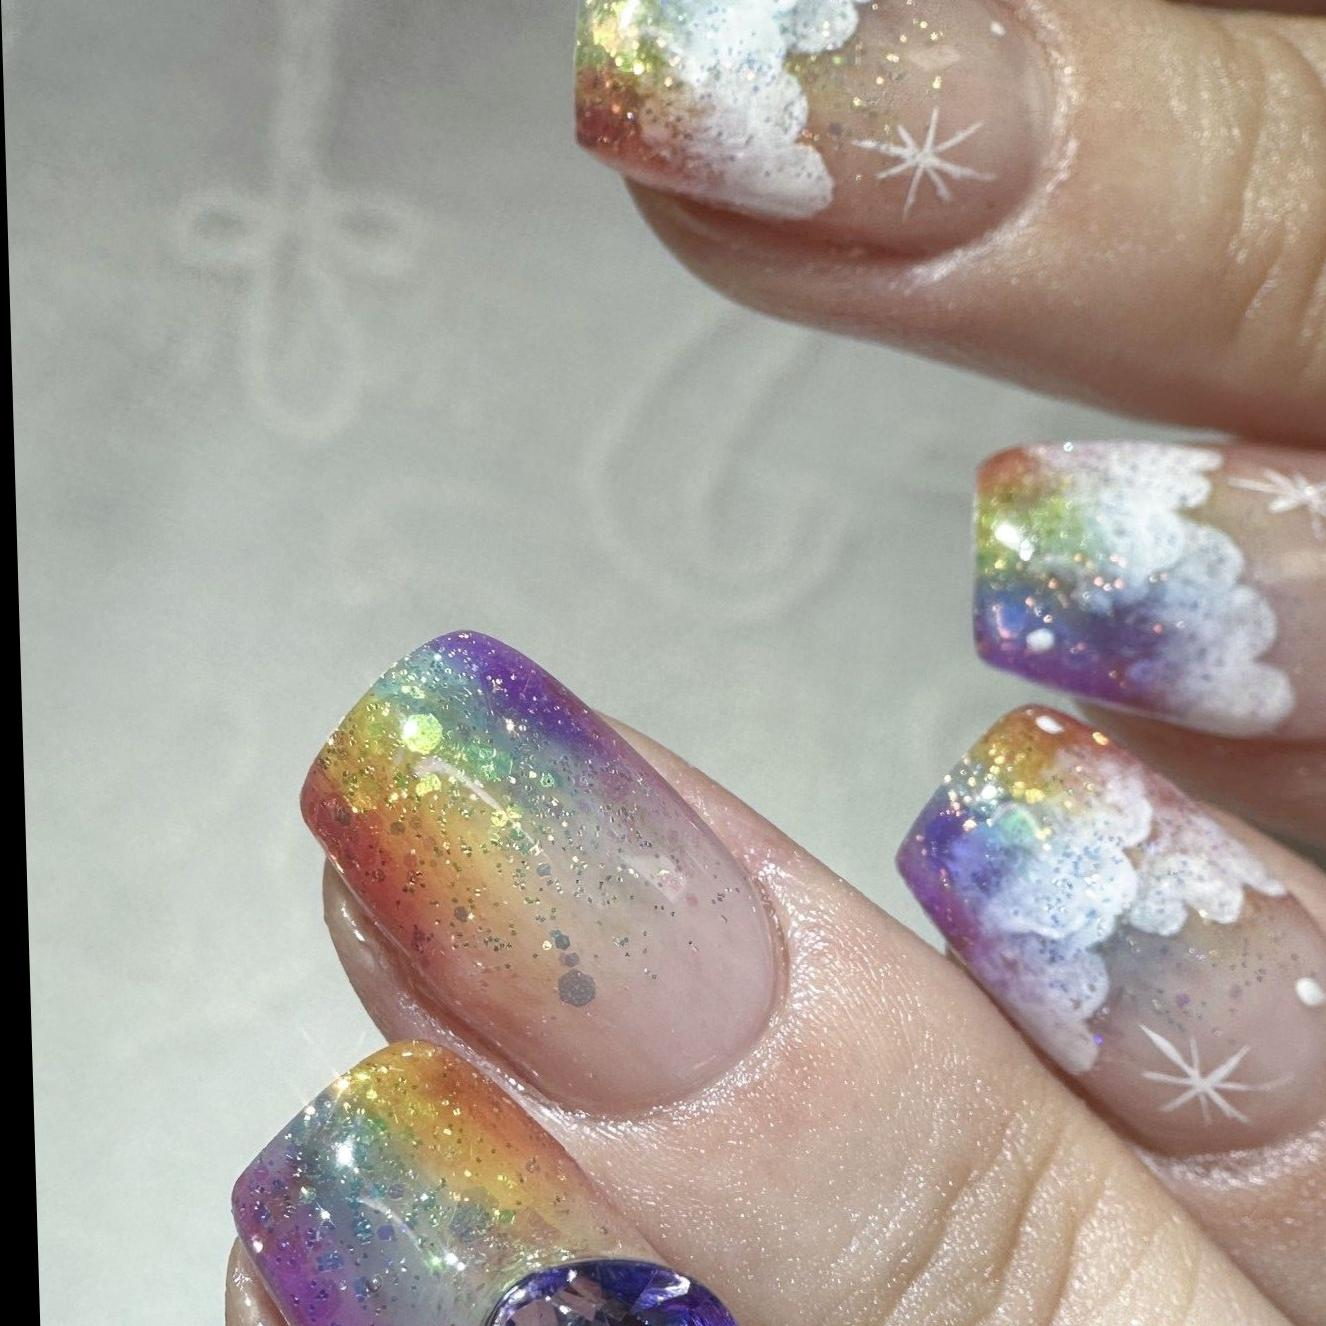nail: (294, 629, 794, 1124), (890, 704, 1326, 1164), (220, 1039, 753, 1326), (965, 437, 1326, 860)
